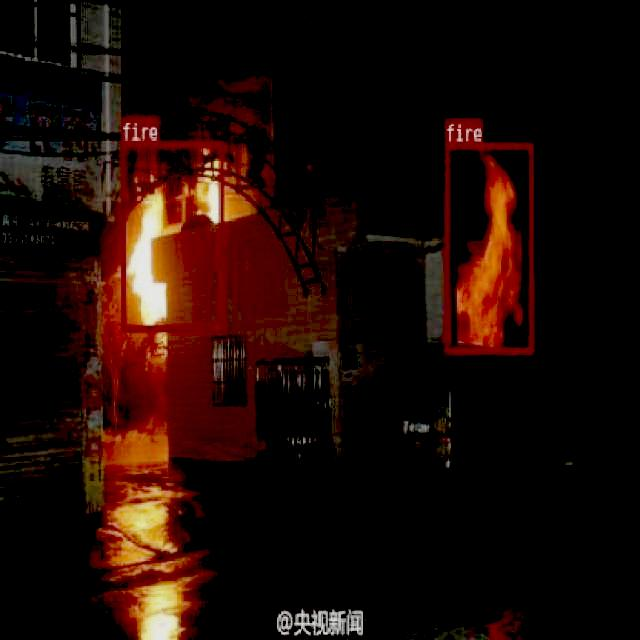fire: (121, 141, 222, 330), (444, 140, 532, 354)
